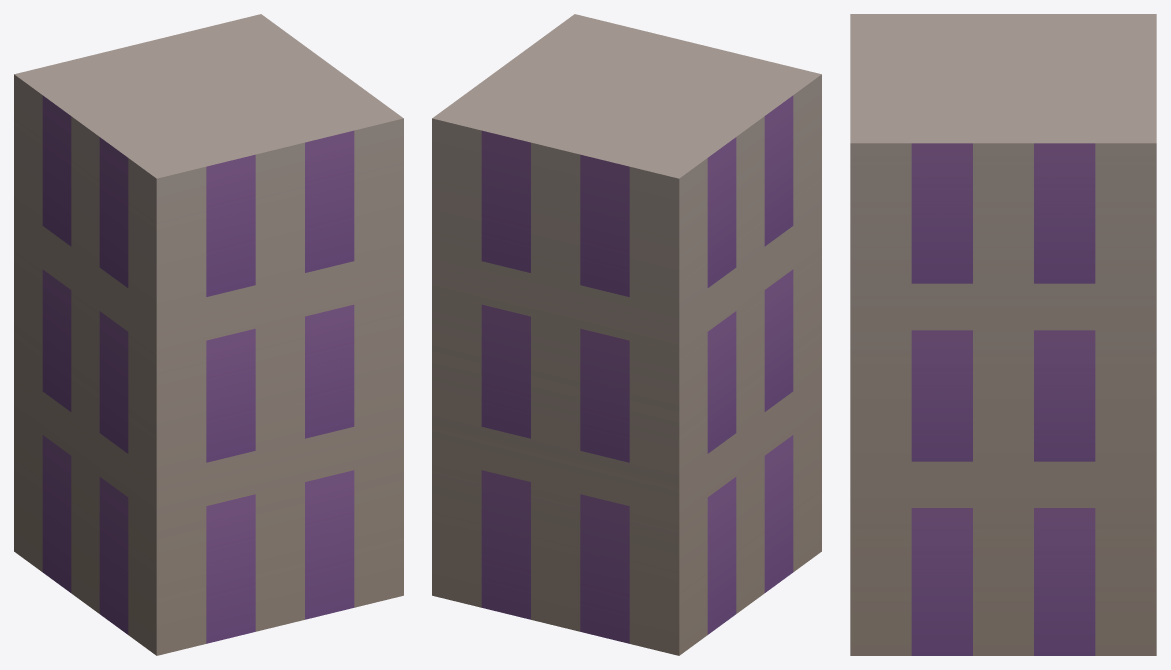
The model's file is building_1.glb.
3 views of the same model, side by side, from view 1: azimuth 30°, elevation 25°; view 2: azimuth 150°, elevation 25°; view 3: azimuth 270°, elevation 25° (orthographic). The views are drawn at different scales.
Visible parts, largest first — view 1: building_1; view 2: building_1; view 3: building_1.
Part boxes in pixels (box(x1,y1,x2,y2)): building_1: box(14, 14, 403, 655); building_1: box(432, 14, 821, 655); building_1: box(850, 14, 1156, 655).
Size of the model in its own units: 0.4053 by 0.748 by 0.4053.
1 material, 1 textured.
